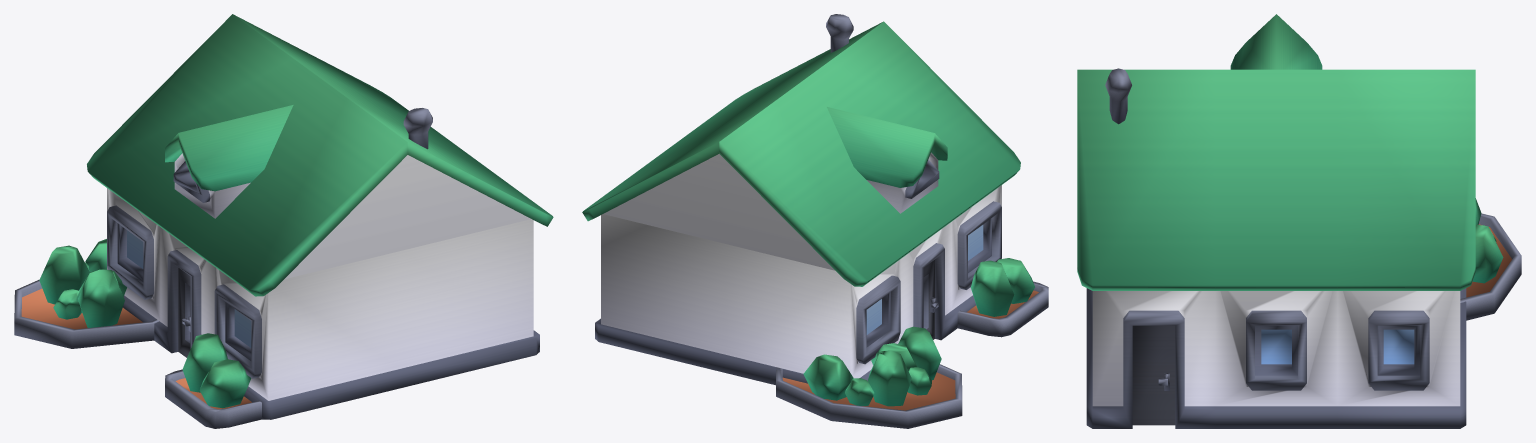
Rendered from n1_building-type-g_lev1.glb.
3 views of the same model, side by side, from view 1: azimuth 30°, elevation 25°; view 2: azimuth 150°, elevation 25°; view 3: azimuth 270°, elevation 25° (orthographic). The views are drawn at different scales.
Visible parts, largest first — view 1: n1_building-type-g_lev1; view 2: n1_building-type-g_lev1; view 3: n1_building-type-g_lev1.
Part boxes in pixels (x1=…): n1_building-type-g_lev1: x1=14, y1=14, x2=553, y2=428; n1_building-type-g_lev1: x1=582, y1=14, x2=1048, y2=428; n1_building-type-g_lev1: x1=1077, y1=14, x2=1521, y2=428.
Size of the model in its own units: 9.13 by 5.78 by 7.92.
1 material, 1 textured.
